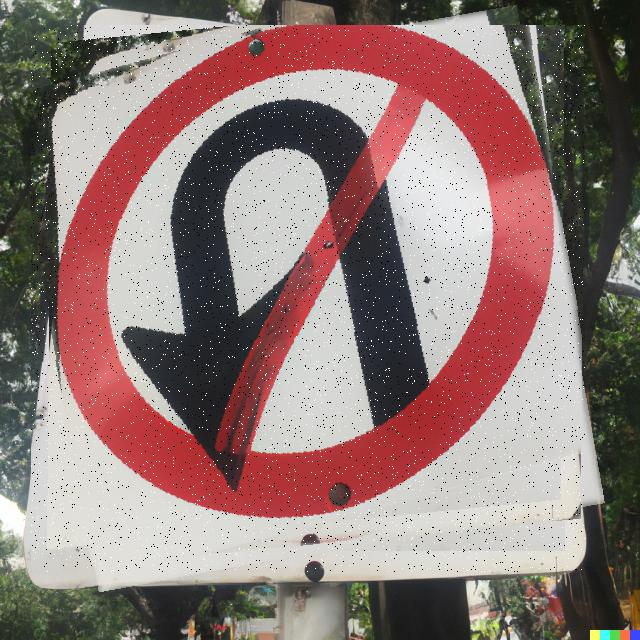no u turn: (31, 25, 585, 572)
